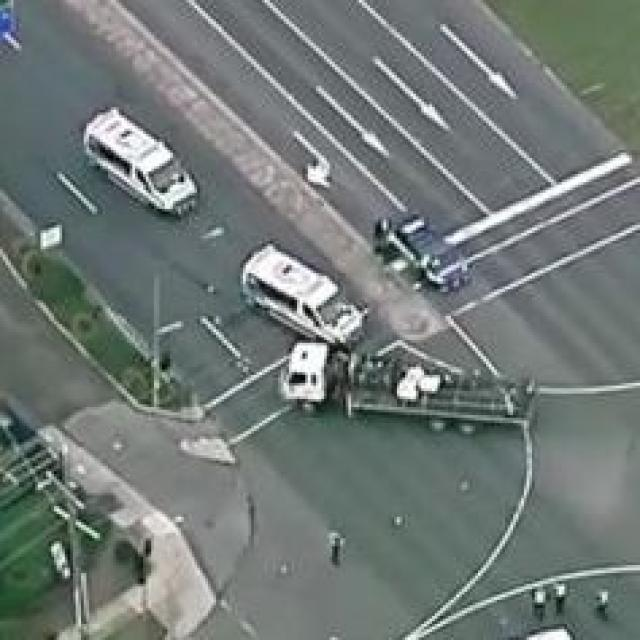traffic_incident: (246, 244, 510, 431)
